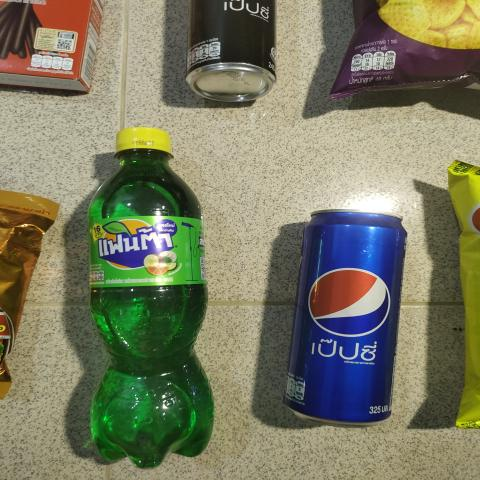fanta_green: (83, 125, 225, 462)
pepsi_blue: (291, 202, 410, 443)
